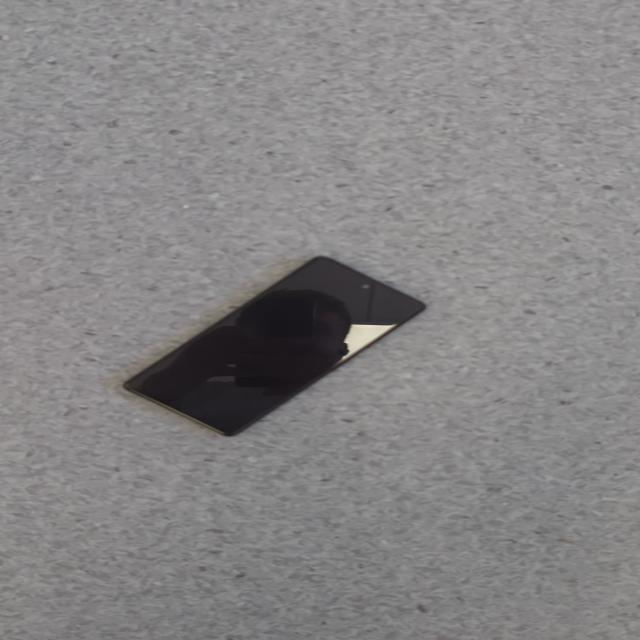phone: (121, 255, 426, 437)
